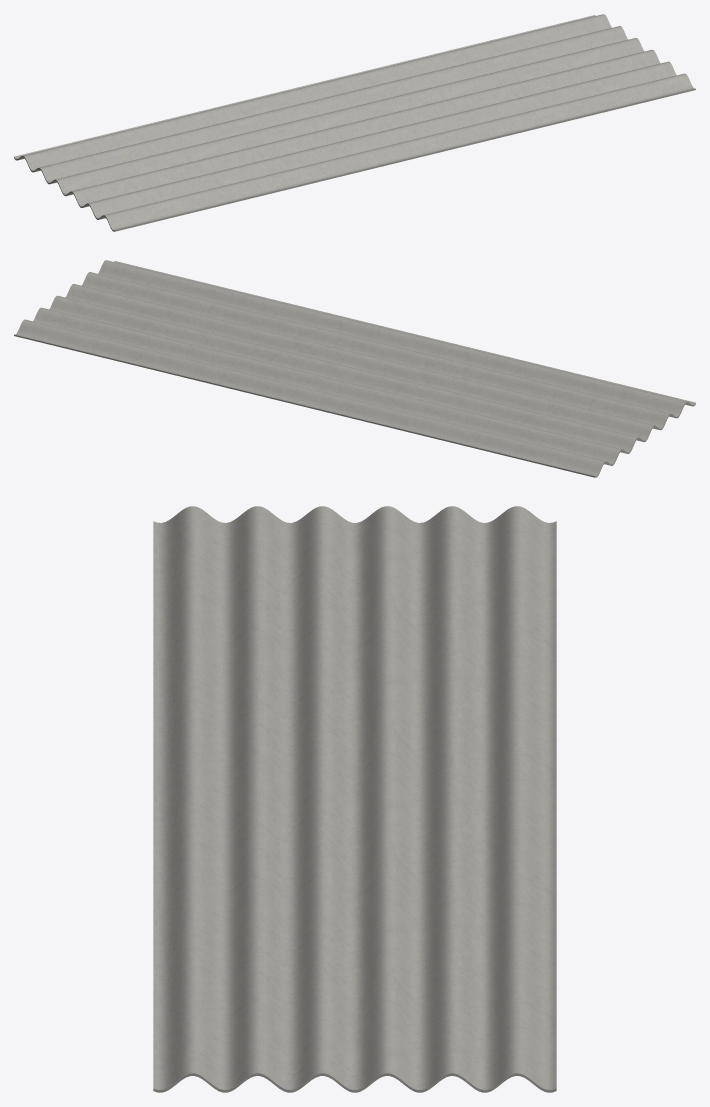
Rendered from COB-FIB-003.glb.
3 renders of one model, top to bottom at view 1: azimuth 30°, elevation 25°; view 2: azimuth 150°, elevation 25°; view 3: azimuth 270°, elevation 25°, orthographic. The views are drawn at different scales.
Visible parts, largest first — view 1: COB-FIB-003_chapa; view 2: COB-FIB-003_chapa; view 3: COB-FIB-003_chapa.
Boxes of the visible parts, x1,y1,x2,y2 form: COB-FIB-003_chapa: (14,14,695,231); COB-FIB-003_chapa: (14,260,695,477); COB-FIB-003_chapa: (153,506,556,1092).
Size of the model in its own units: 3.66 by 0.0585 by 1.1.
1 material, 1 textured.
